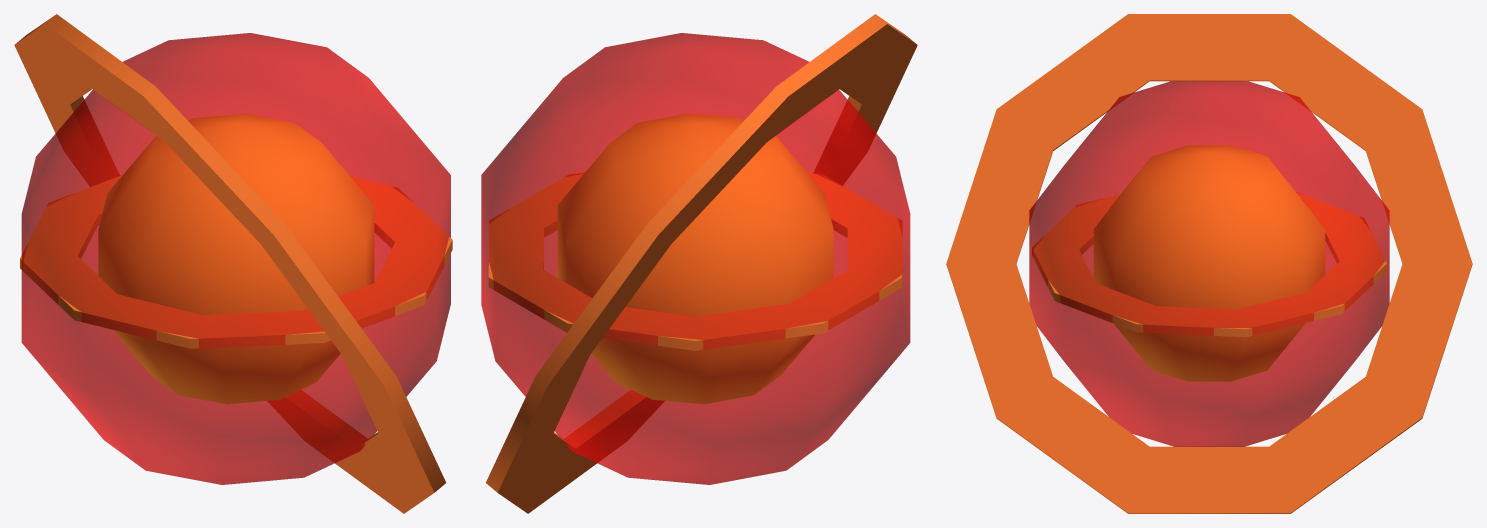
The model's file is Enemy_Attack13.obj.
The picture shows the model from 3 angles, left to right: view 1: azimuth 30°, elevation 25°; view 2: azimuth 150°, elevation 25°; view 3: azimuth 270°, elevation 25°; orthographic projection. The views are drawn at different scales.
Parts seen in each view (by area): view 1: Sphere002, Sphere001, Tube001, Tube002; view 2: Sphere002, Sphere001, Tube001, Tube002; view 3: Sphere002, Tube001, Sphere001, Tube002.
Boxes of the visible parts, <box> form: Sphere002: <box>21,33,450,484</box>; Sphere001: <box>98,113,374,404</box>; Tube001: <box>14,14,446,513</box>; Tube002: <box>20,175,452,348</box>; Sphere002: <box>481,33,910,484</box>; Sphere001: <box>557,113,833,404</box>; Tube001: <box>486,14,917,513</box>; Tube002: <box>488,173,902,350</box>; Sphere002: <box>1029,81,1389,446</box>; Tube001: <box>946,14,1472,513</box>; Sphere001: <box>1093,145,1325,381</box>; Tube002: <box>1032,192,1386,337</box>.
Bounding box in the file's own units: 21.07 × 26.65 × 31.73.
